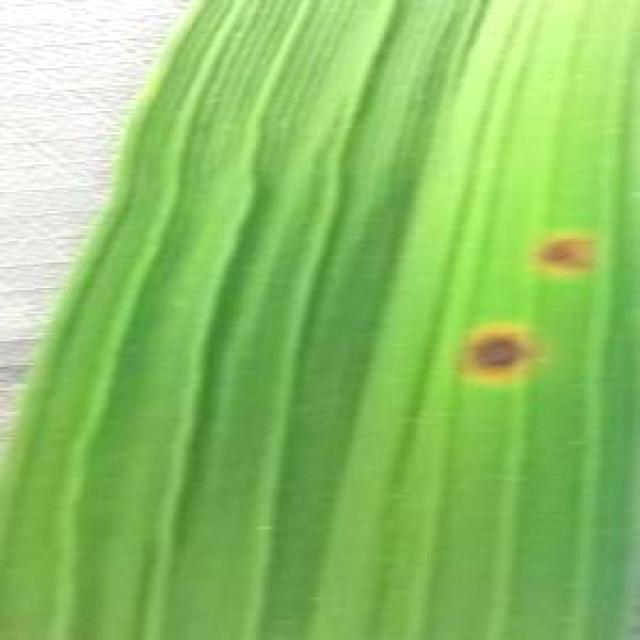Brown_Spot: (437, 301, 576, 399), (521, 216, 612, 294)
